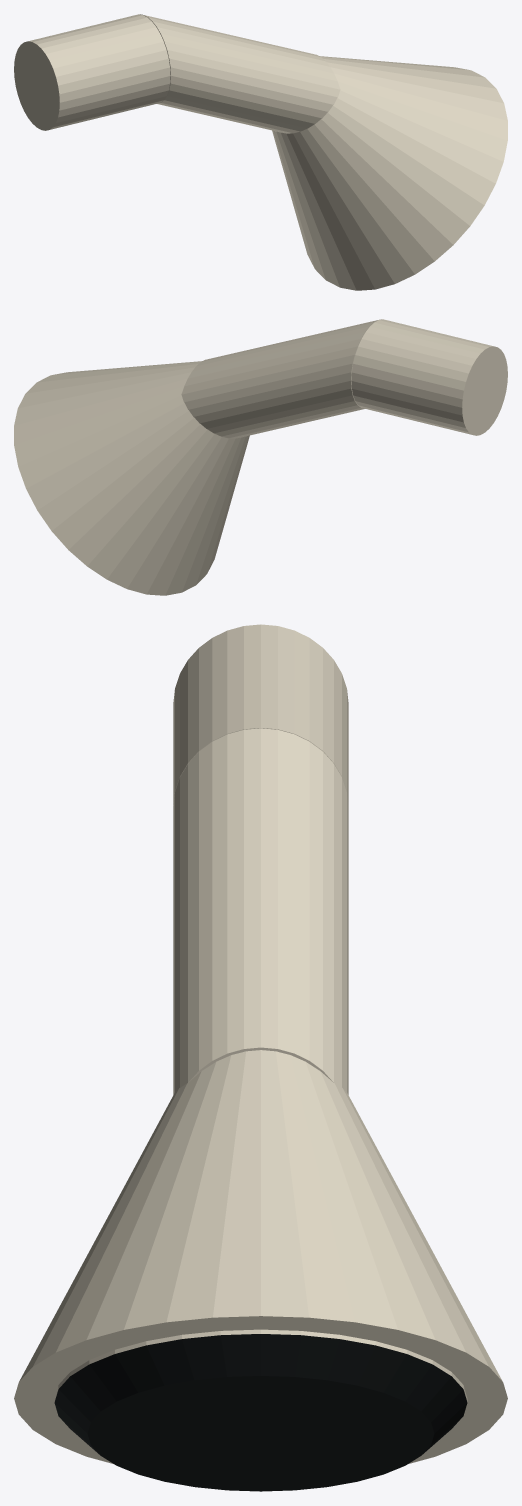
The model's file is BathtubTopFaucetV2 1.fbx.
3 renders of one model, top to bottom at view 1: azimuth 30°, elevation 25°; view 2: azimuth 150°, elevation 25°; view 3: azimuth 270°, elevation 25°, orthographic. The views are drawn at different scales.
Visible parts, largest first — view 1: Cylinder; view 2: Cylinder; view 3: Cylinder.
Boxes of the visible parts, <box> form: Cylinder: <box>14,14,507,290</box>; Cylinder: <box>14,319,507,595</box>; Cylinder: <box>14,624,507,1491</box>.
Bounding box in the file's own units: 214 × 429 × 280.
